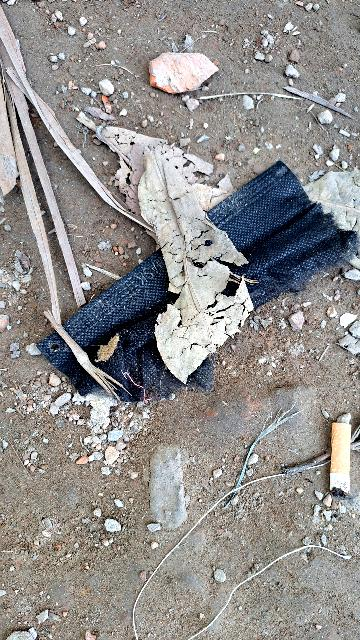mask: (44, 150, 360, 435)
